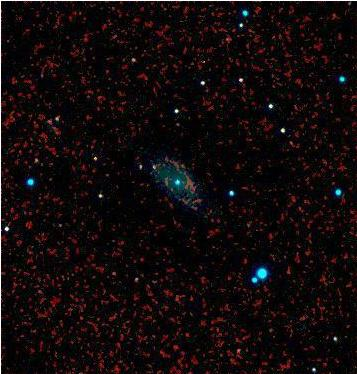star: (82, 145, 112, 175)
